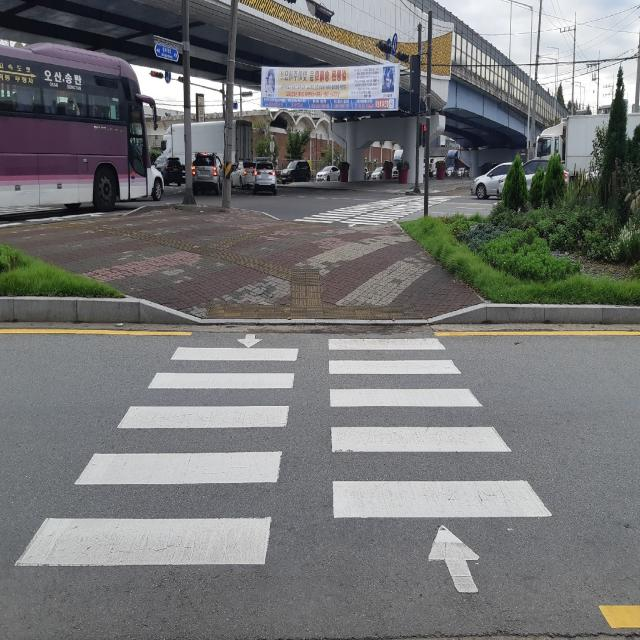빨간불: (422, 122, 428, 146)
횡단보도: (13, 332, 554, 596), (294, 192, 450, 229)
